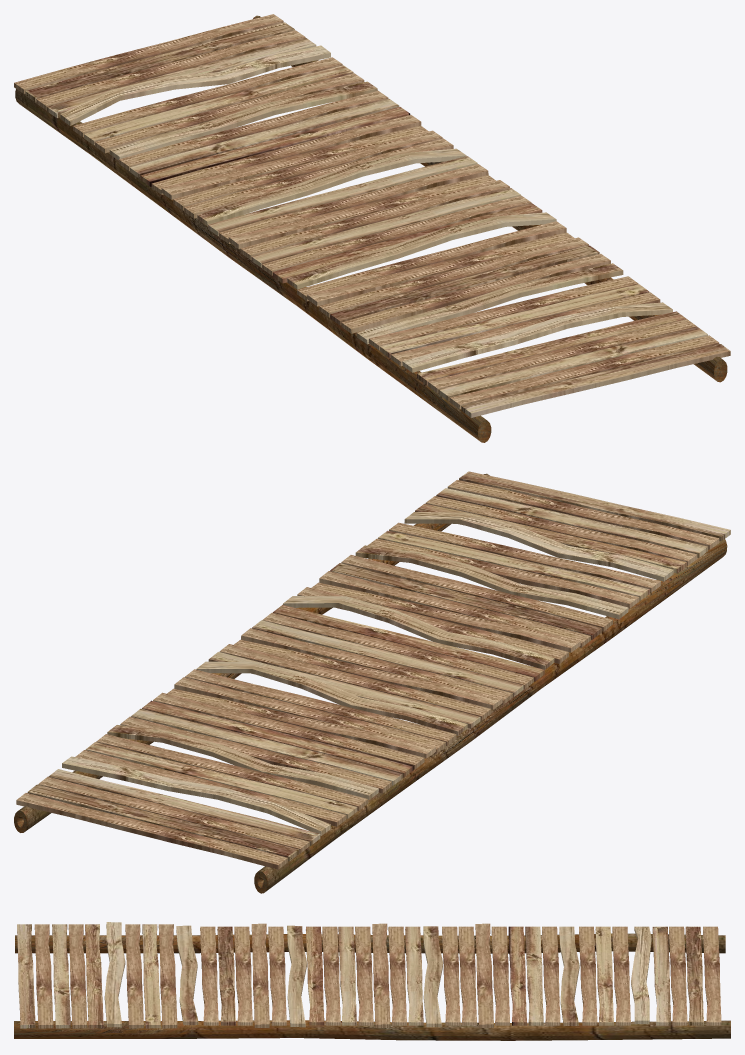
The model's file is Pont.FBX.
The picture shows the model from 3 angles, top to bottom: view 1: azimuth 30°, elevation 25°; view 2: azimuth 150°, elevation 25°; view 3: azimuth 270°, elevation 25°; orthographic projection. The views are drawn at different scales.
Parts seen in each view (by area): view 1: Cylinder006, Box005, Box062, Box015, Box057, Box026, Box012, Box061, Box052, Box017, Box054, Box051 (+30 smaller); view 2: Cylinder006, Box017, Box015, Box061, Box057, Box026, Box005, Box012, Box027, Box062, Box052, Box050 (+30 smaller); view 3: Cylinder005, Cylinder006, Box057, Box053, Box059, Box058, Box054, Box055, Box060, Box056, Box062, Box043 (+30 smaller).
Boxes of the visible parts, x1=… form: Cylinder006: x1=15, y1=89, x2=491, y2=442; Box005: x1=60, y1=45, x2=330, y2=125; Box062: x1=461, y1=344, x2=730, y2=417; Box015: x1=287, y1=212, x2=556, y2=289; Box057: x1=402, y1=302, x2=672, y2=372; Box026: x1=197, y1=148, x2=466, y2=225; Box012: x1=109, y1=81, x2=377, y2=160; Box061: x1=356, y1=263, x2=623, y2=344; Box052: x1=341, y1=253, x2=610, y2=333; Box017: x1=14, y1=14, x2=283, y2=94; Box054: x1=449, y1=335, x2=719, y2=409; Box051: x1=330, y1=245, x2=599, y2=325; Cylinder006: x1=254, y1=539, x2=727, y2=893; Box017: x1=16, y1=793, x2=287, y2=869; Box015: x1=283, y1=596, x2=554, y2=669; Box061: x1=355, y1=545, x2=628, y2=619; Box057: x1=404, y1=512, x2=673, y2=581; Box026: x1=196, y1=661, x2=467, y2=735; Box005: x1=62, y1=756, x2=330, y2=835; Box012: x1=107, y1=725, x2=378, y2=799; Box027: x1=27, y1=784, x2=299, y2=861; Box062: x1=459, y1=471, x2=730, y2=541; Box052: x1=341, y1=555, x2=612, y2=631; Box050: x1=319, y1=571, x2=590, y2=647; Cylinder005: x1=14, y1=1020, x2=730, y2=1040; Cylinder006: x1=15, y1=933, x2=725, y2=953; Box057: x1=104, y1=922, x2=125, y2=1027; Box053: x1=52, y1=924, x2=70, y2=1028; Box059: x1=142, y1=924, x2=160, y2=1028; Box058: x1=125, y1=924, x2=143, y2=1028; Box054: x1=34, y1=924, x2=53, y2=1028; Box055: x1=68, y1=924, x2=87, y2=1028; Box060: x1=158, y1=924, x2=177, y2=1028; Box056: x1=85, y1=924, x2=103, y2=1028; Box062: x1=17, y1=924, x2=35, y2=1028; Box043: x1=372, y1=923, x2=390, y2=1027.
Size of the model in its own units: 145 by 21.98 by 442.
